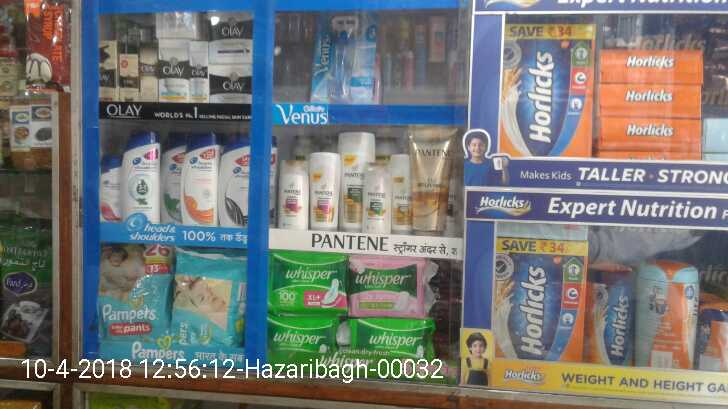venus: (312, 10, 375, 101)
